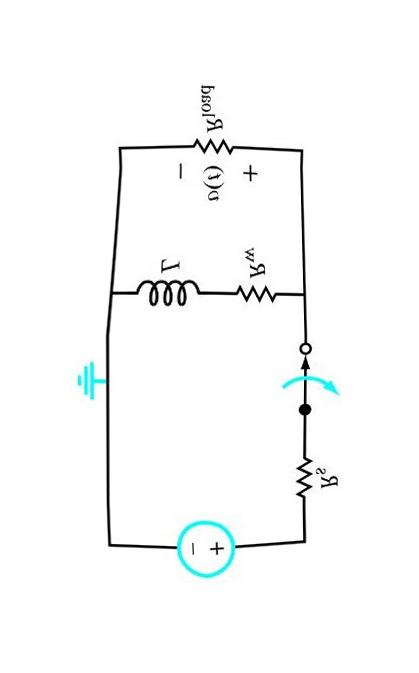Battery: (156, 500, 276, 599)
